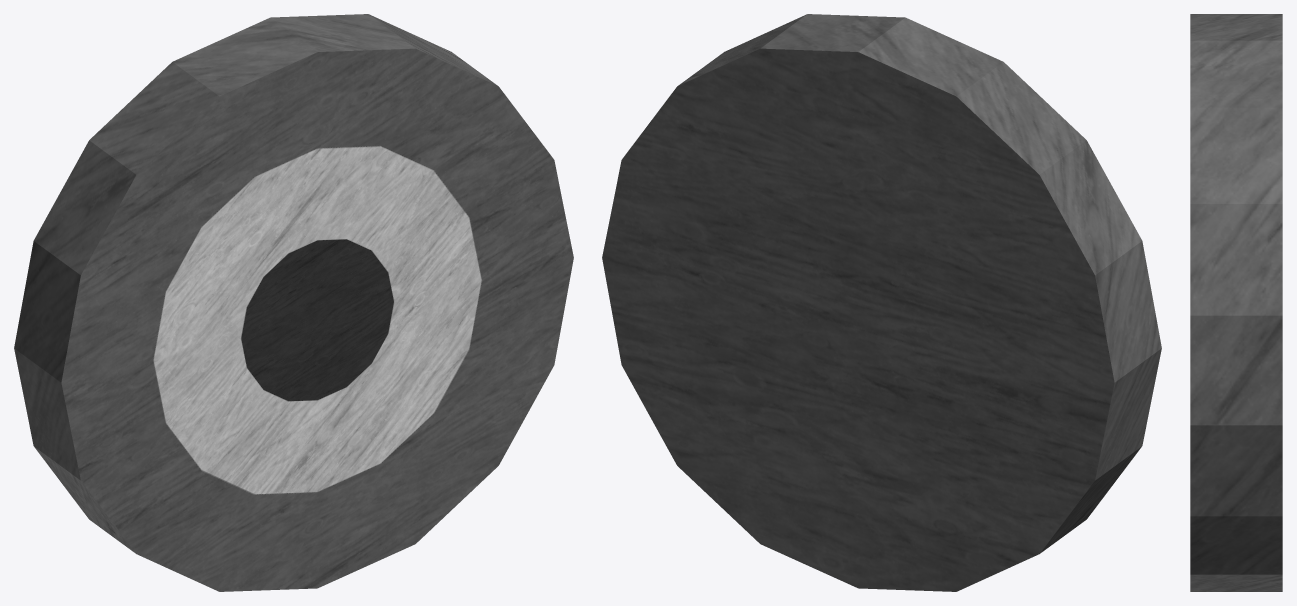
File: targettextured.fbx
The picture shows the model from 3 angles, left to right: view 1: azimuth 30°, elevation 25°; view 2: azimuth 150°, elevation 25°; view 3: azimuth 270°, elevation 25°; orthographic projection. The views are drawn at different scales.
Visible parts, largest first — view 1: Cylinder; view 2: Cylinder; view 3: Cylinder.
Boxes of the visible parts, box(x1,y1,x2,y2) form: Cylinder: box(14, 14, 573, 591); Cylinder: box(602, 14, 1161, 591); Cylinder: box(1190, 14, 1282, 591).
Size of the model in its own units: 400 by 400 by 63.93.
Materials: 1 (1 with a texture image).
